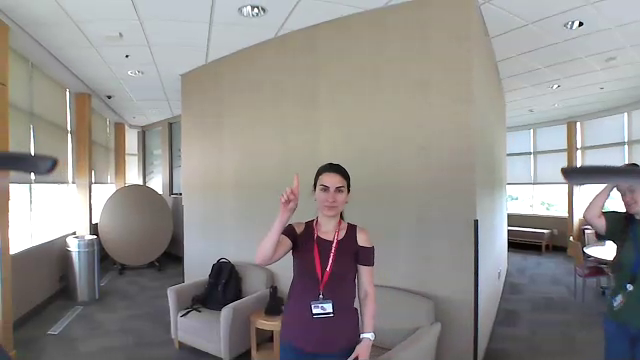up: (275, 171, 304, 219)
